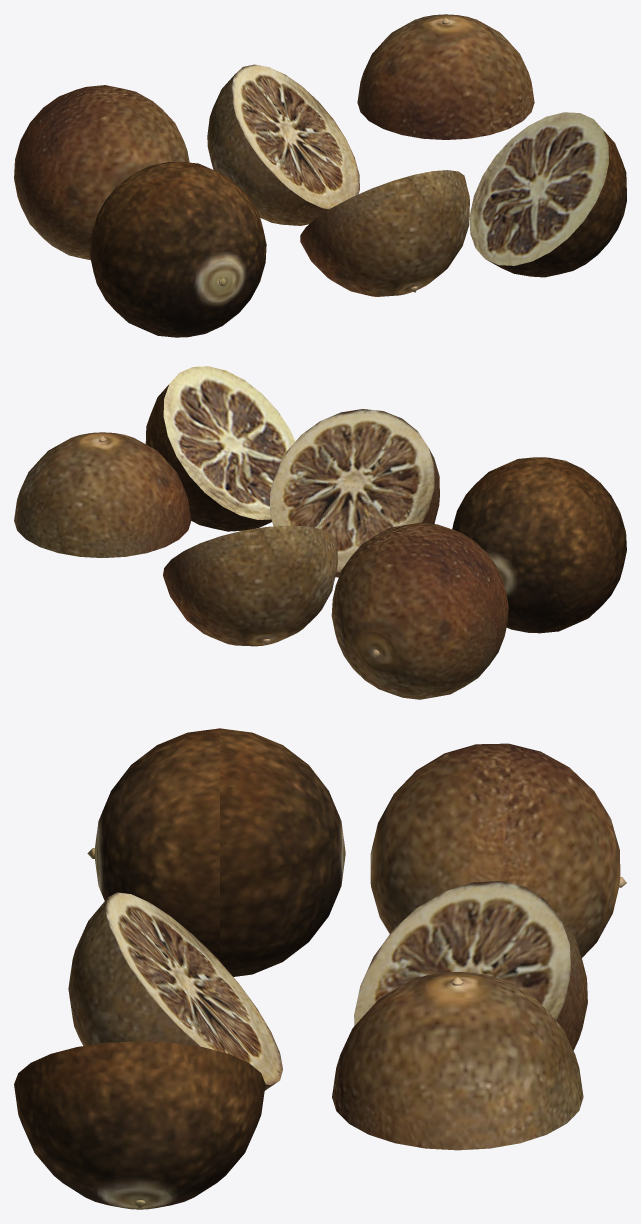
The model's file is zhiqiao.FBX.
3 renders of one model, top to bottom at view 1: azimuth 30°, elevation 25°; view 2: azimuth 150°, elevation 25°; view 3: azimuth 270°, elevation 25°, orthographic. The views are drawn at different scales.
Parts seen in each view (by area): view 1: Sphere001, Sphere005, Sphere002, Sphere006, Sphere004, Sphere003; view 2: Sphere002, Sphere001, Sphere003, Sphere006, Sphere005, Sphere004; view 3: Sphere001, Sphere006, Sphere002, Sphere005, Sphere003, Sphere004.
Part boxes in pixels (x1,y1,x2,y2): Sphere001: [90, 161, 266, 337]; Sphere005: [469, 112, 626, 277]; Sphere002: [14, 85, 189, 260]; Sphere006: [357, 14, 534, 139]; Sphere004: [207, 64, 359, 225]; Sphere003: [300, 170, 469, 296]; Sphere002: [331, 522, 508, 699]; Sphere001: [452, 457, 626, 633]; Sphere003: [270, 409, 439, 577]; Sphere006: [14, 432, 191, 557]; Sphere005: [145, 366, 295, 531]; Sphere004: [163, 525, 337, 646]; Sphere001: [87, 728, 345, 976]; Sphere006: [332, 972, 583, 1150]; Sphere002: [370, 743, 626, 957]; Sphere005: [14, 1041, 265, 1209]; Sphere003: [68, 892, 282, 1090]; Sphere004: [354, 881, 587, 1050].
Size of the model in its own units: 40.9 by 12.77 by 30.29.
1 material, 1 textured.
